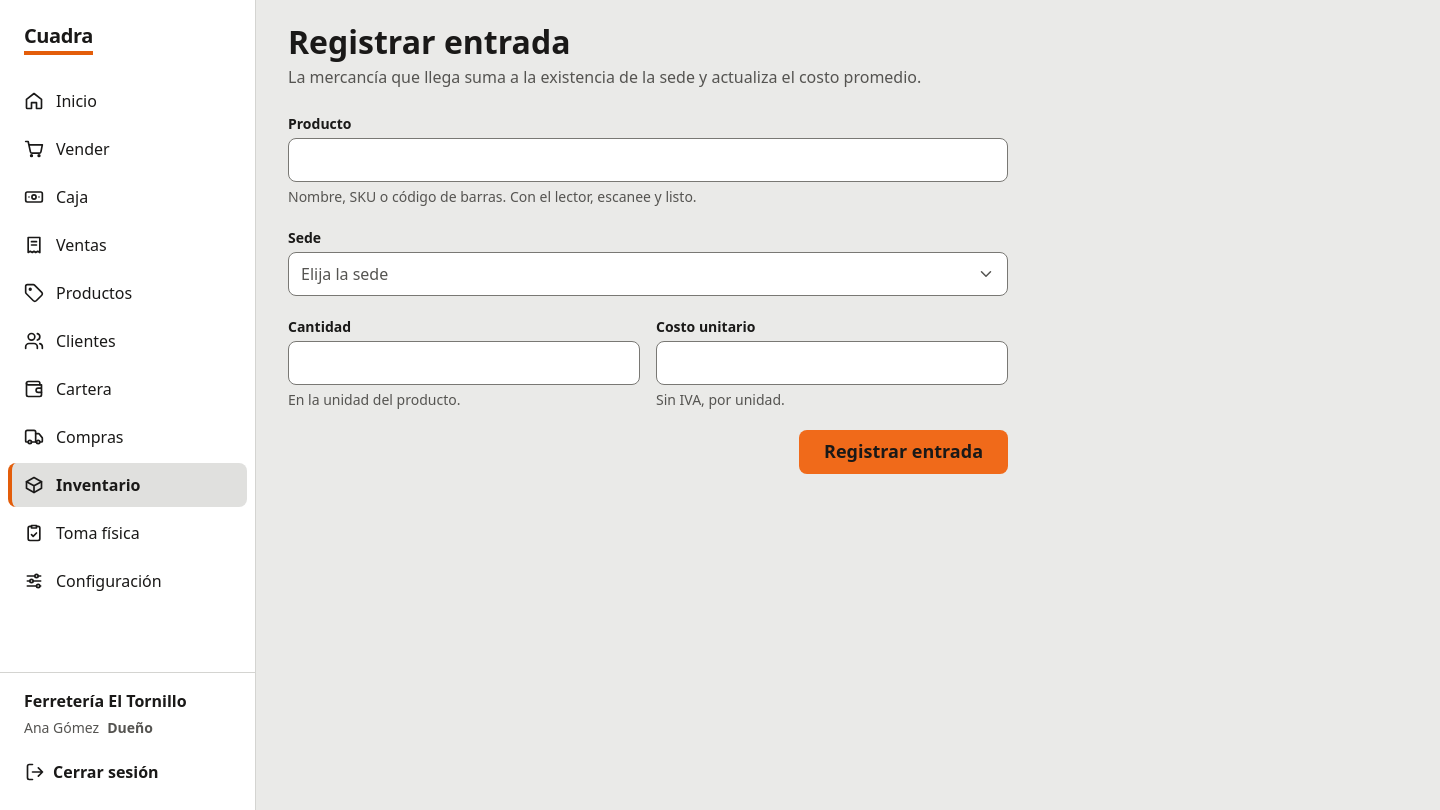
Test: ReceiptPage › no ofrece sedes inactivas
Click the dropdown labelled "sede": {"x": 345, "y": 274} [288,252,1008,296]
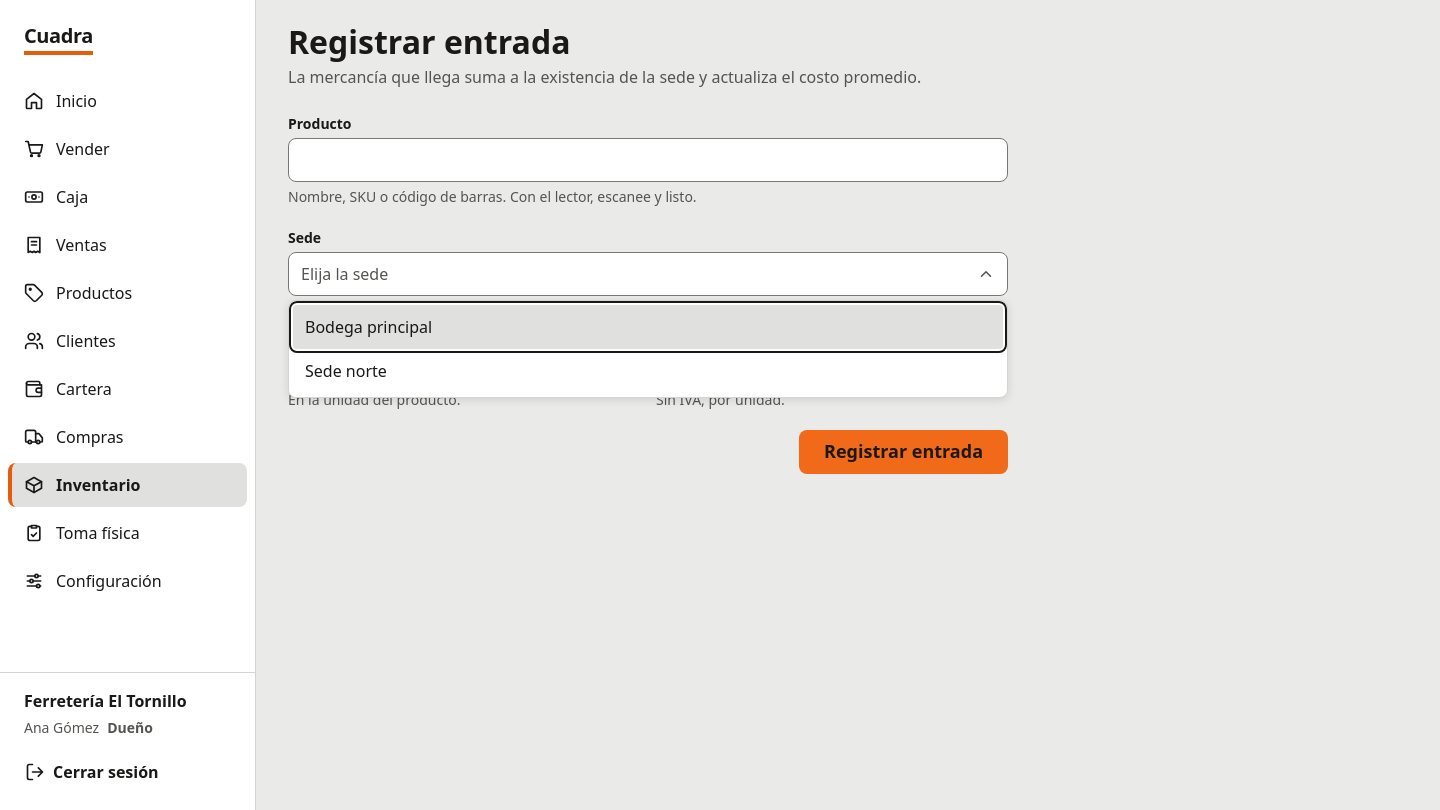
Check: the option "Sede norte" is shown, box [305,360,387,382]
